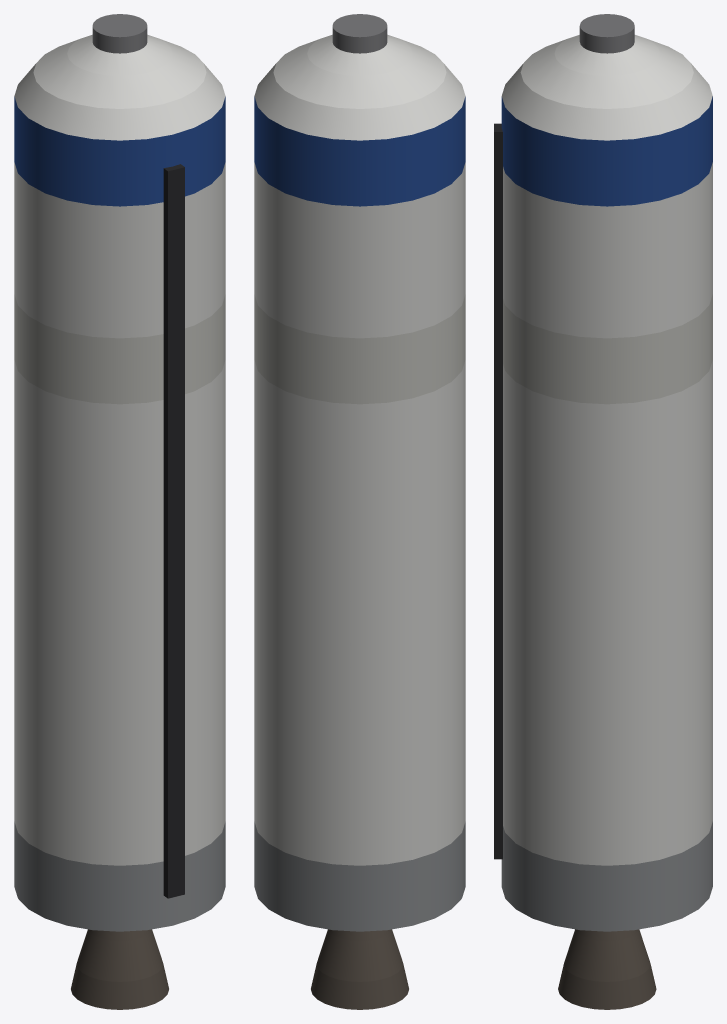
File: rb-cyl-china.obj
The picture shows the model from 3 angles, left to right: view 1: azimuth 30°, elevation 25°; view 2: azimuth 150°, elevation 25°; view 3: azimuth 270°, elevation 25°; orthographic projection.
Parts seen in each view (by area): view 1: rb-cyl-china; view 2: rb-cyl-china; view 3: rb-cyl-china.
Boxes of the visible parts, x1,y1,x2,y2 form: rb-cyl-china: (14,14,225,1009); rb-cyl-china: (254,14,465,1009); rb-cyl-china: (494,14,712,1009).
Bounding box in the file's own units: 0.3 × 1.51 × 0.3107.
